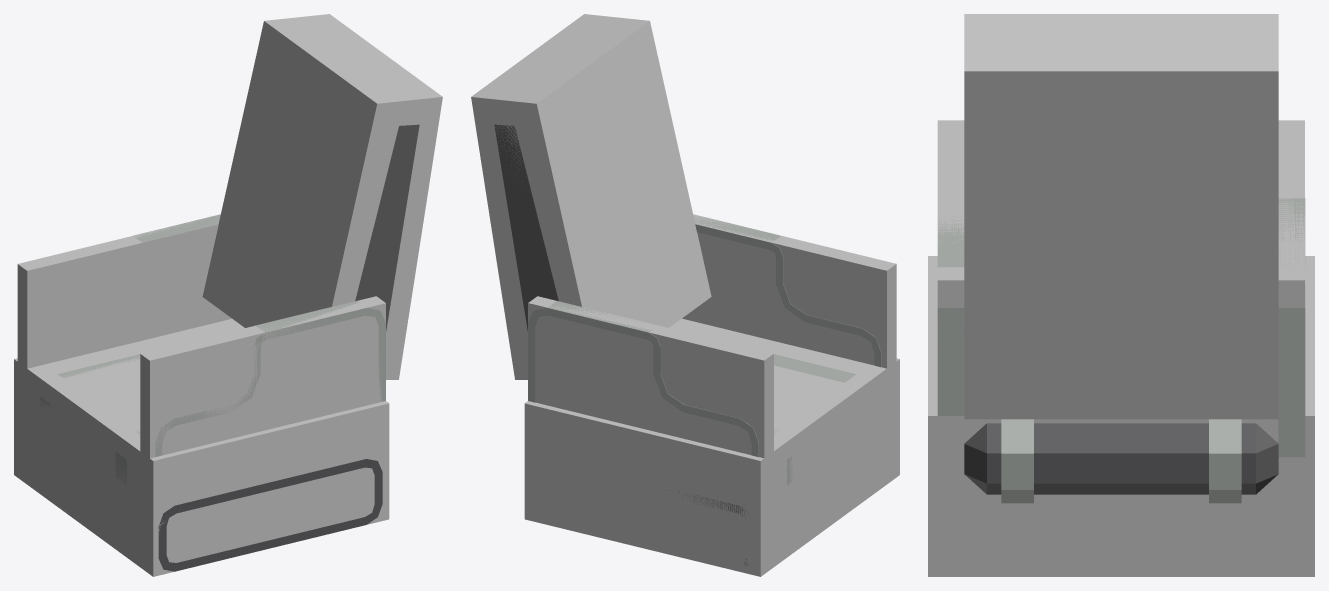
File: SM_Gun_Shop_Chair.fbx
3 views of the same model, side by side, from view 1: azimuth 30°, elevation 25°; view 2: azimuth 150°, elevation 25°; view 3: azimuth 270°, elevation 25° (orthographic). The views are drawn at different scales.
Visible parts, largest first — view 1: SM_Gun_Shop_Chair_ConvexHulls, SM_Gun_Shop_Chair; view 2: SM_Gun_Shop_Chair_ConvexHulls, SM_Gun_Shop_Chair; view 3: SM_Gun_Shop_Chair_ConvexHulls, SM_Gun_Shop_Chair.
Boxes of the visible parts, x1,y1,x2,y2 form: SM_Gun_Shop_Chair_ConvexHulls: (14, 14, 442, 576); SM_Gun_Shop_Chair: (40, 124, 419, 571); SM_Gun_Shop_Chair_ConvexHulls: (471, 14, 899, 576); SM_Gun_Shop_Chair: (494, 124, 881, 565); SM_Gun_Shop_Chair_ConvexHulls: (928, 14, 1314, 576); SM_Gun_Shop_Chair: (937, 198, 1305, 503).
Size of the model in its own units: 123 by 98.36 by 158.
2 materials, 1 textured.
